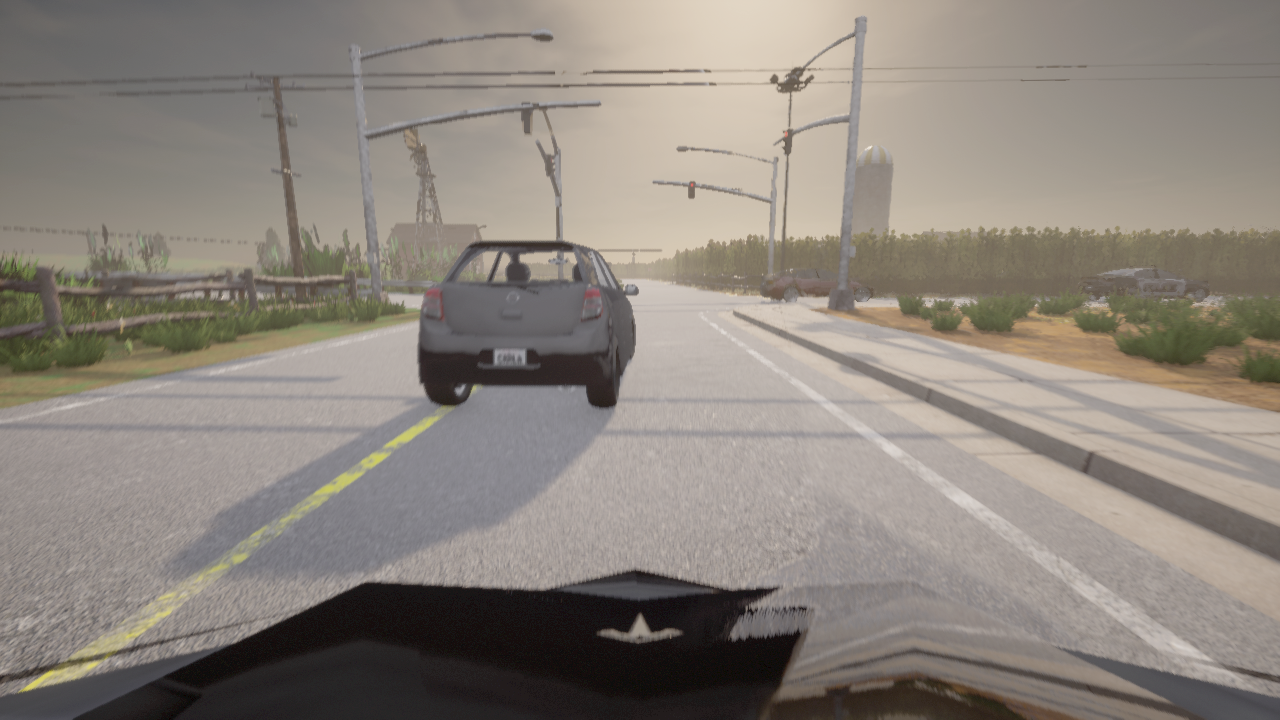cyclist: (0, 569, 1279, 719), (418, 241, 637, 407), (1076, 264, 1209, 301), (761, 268, 875, 303)
